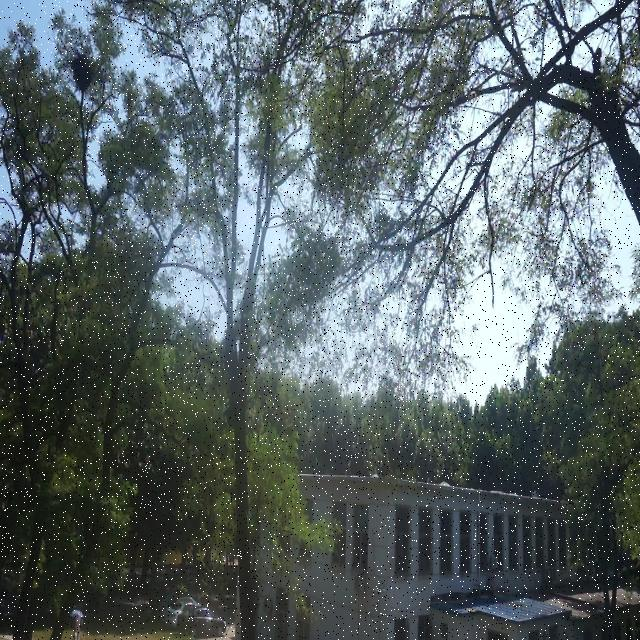UAV: (375, 587, 385, 596)
